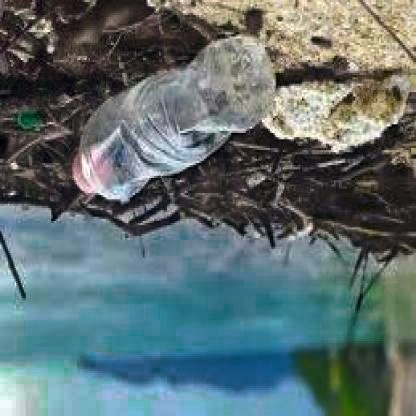pbottle: (60, 28, 280, 208)
